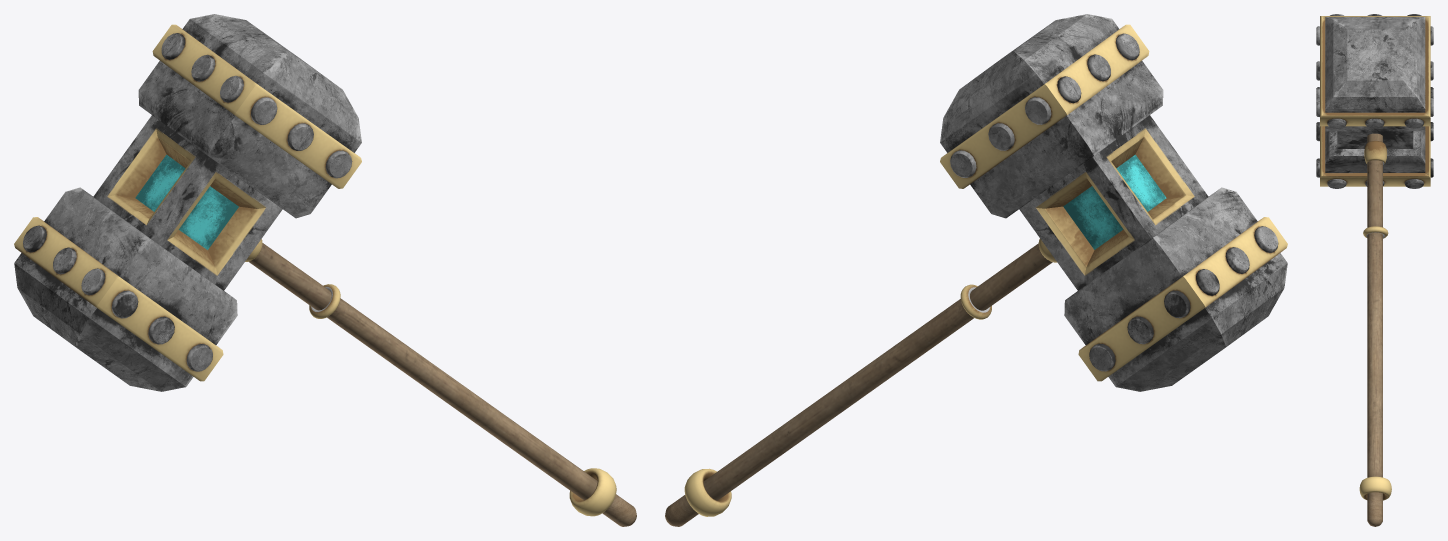
File: Hammer_bone001.fbx
The picture shows the model from 3 angles, left to right: view 1: azimuth 30°, elevation 25°; view 2: azimuth 150°, elevation 25°; view 3: azimuth 270°, elevation 25°; orthographic projection. The views are drawn at different scales.
Parts seen in each view (by area): view 1: Hammer; view 2: Hammer; view 3: Hammer.
Boxes of the visible parts, box(x1,y1,x2,y2) form: Hammer: box(14, 14, 636, 526); Hammer: box(665, 14, 1287, 526); Hammer: box(1316, 14, 1433, 526).
Bounding box in the file's own units: 141 × 134 × 36.88.
